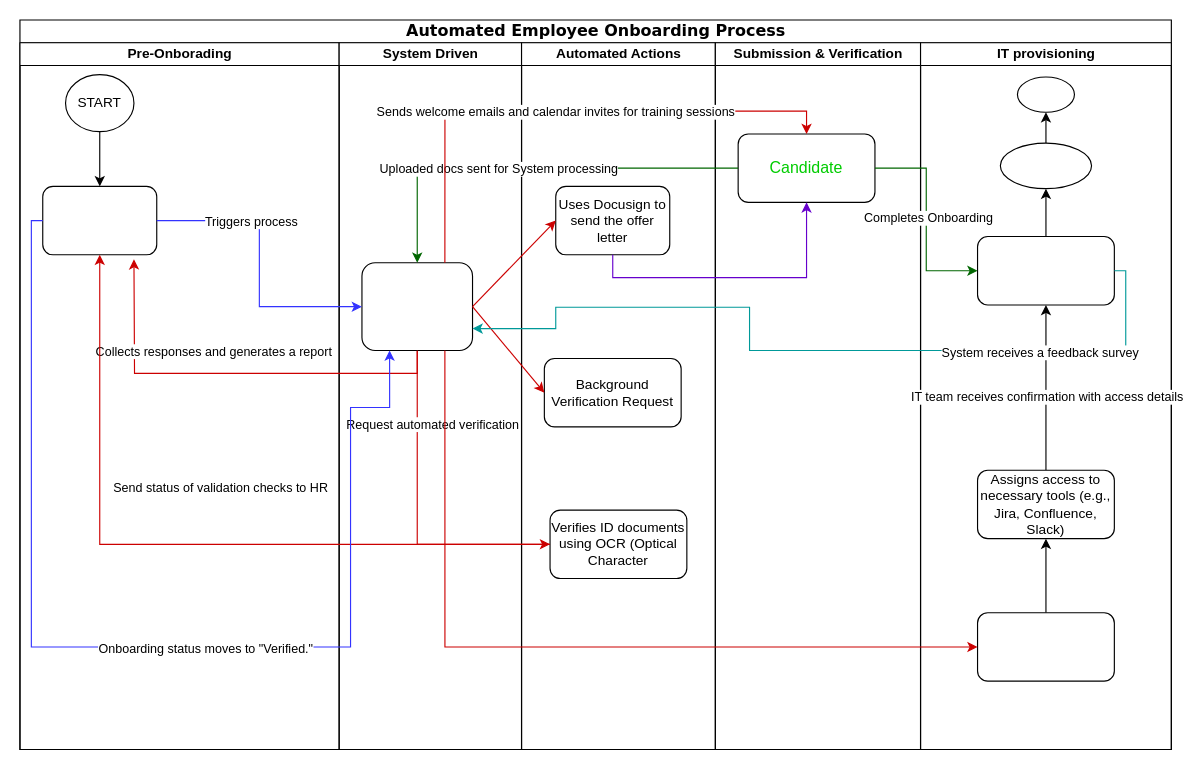
Image size: 1203x770. Some labels were removed from this diagram. Here are the shapes that lost their labels. From the top down, the centre of each, then its label:
the point at 1045,94: STOP
the point at 1045,165: Team joined
the point at 99,220: HR
the point at 1045,270: Employee completes onboarding
the point at 417,306: System Process
the point at 1045,646: Creates Active Directory and email accounts
